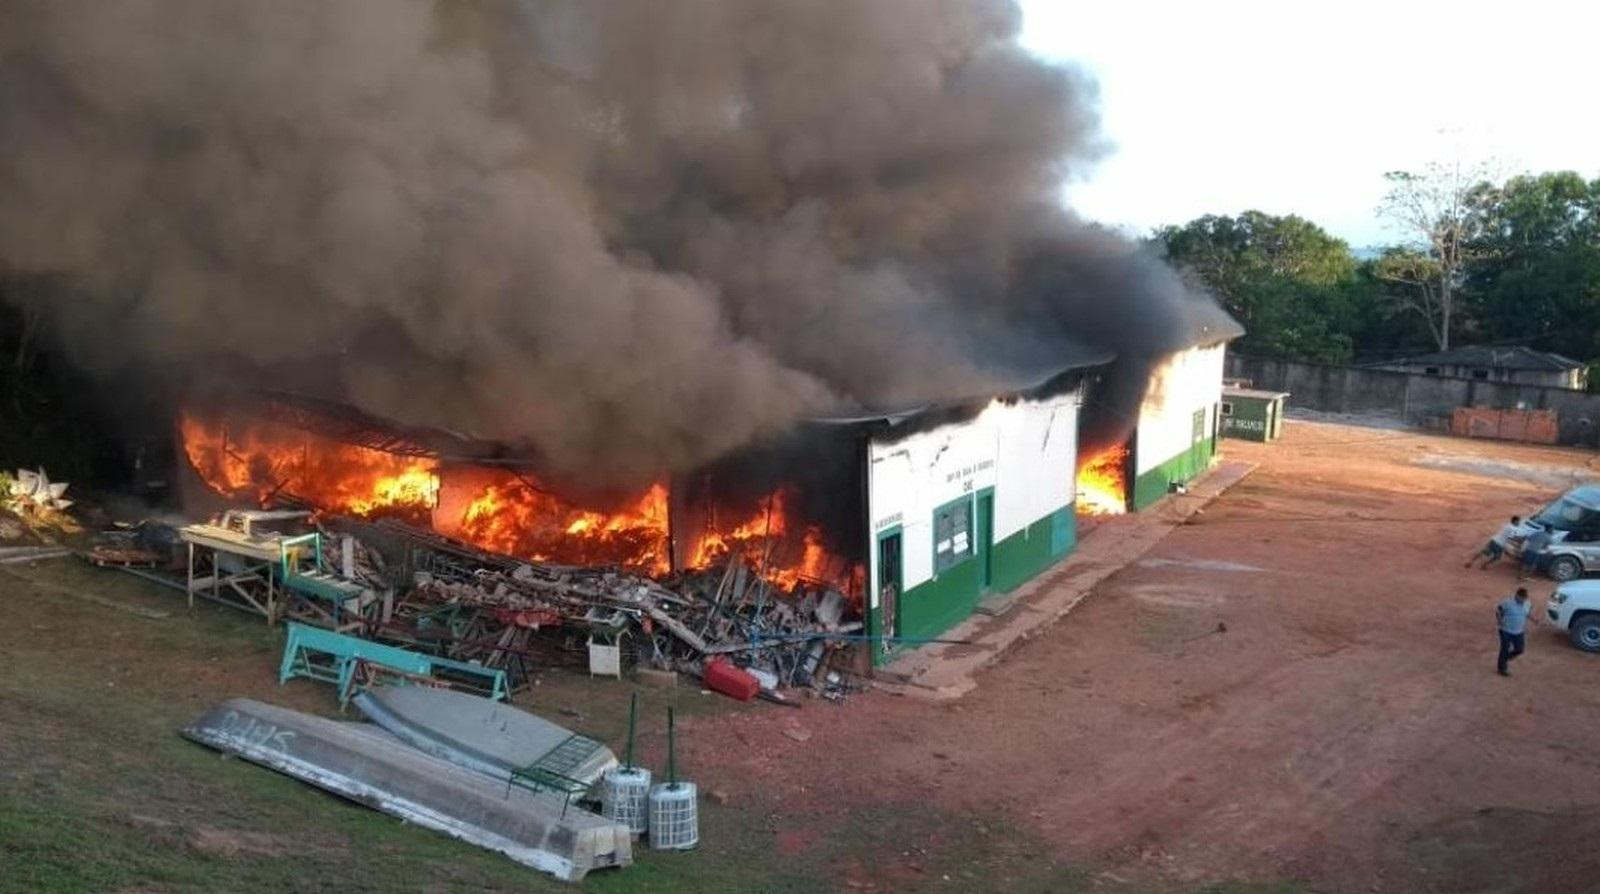Fire: (176, 398, 434, 544), (451, 463, 677, 591), (687, 478, 862, 608), (1073, 442, 1138, 524)
